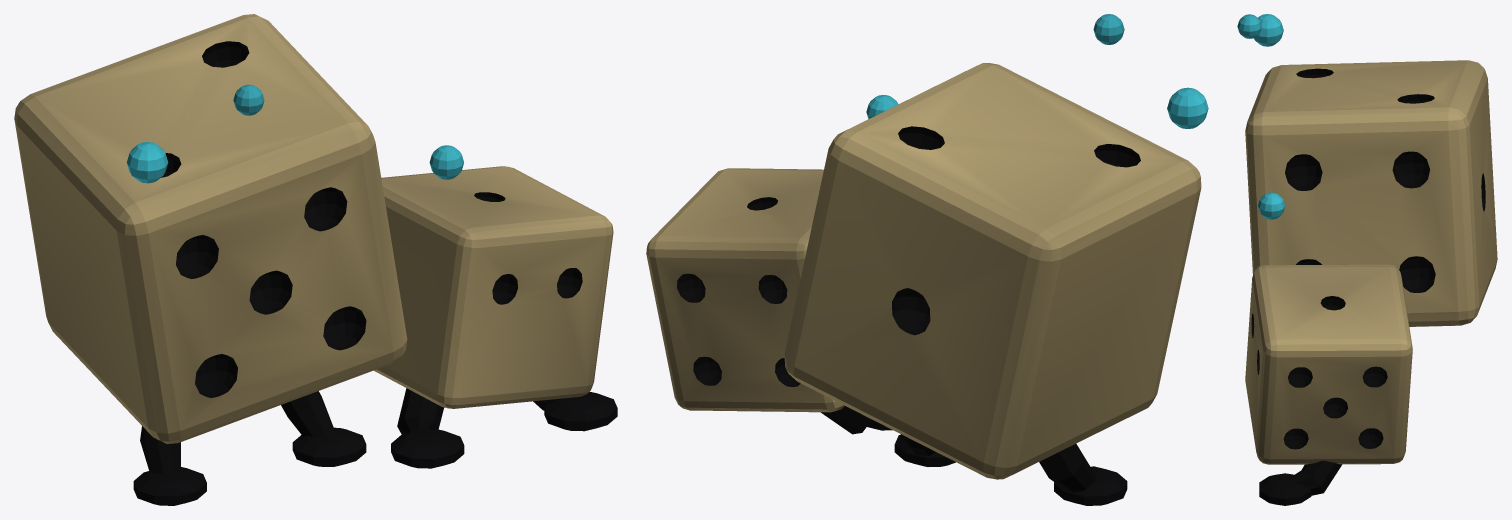
File: marrow_dice.fbx
3 renders of one model, left to right at view 1: azimuth 30°, elevation 25°; view 2: azimuth 150°, elevation 25°; view 3: azimuth 270°, elevation 25°, orthographic. The views are drawn at different scales.
Visible parts, largest first — view 1: marrow_dice; view 2: marrow_dice; view 3: marrow_dice.
Part boxes in pixels (bbox=[...]): marrow_dice: bbox=[14, 14, 617, 505]; marrow_dice: bbox=[646, 14, 1208, 505]; marrow_dice: bbox=[1237, 14, 1497, 505].
Size of the model in its own units: 3.31 by 2.81 by 1.9.
